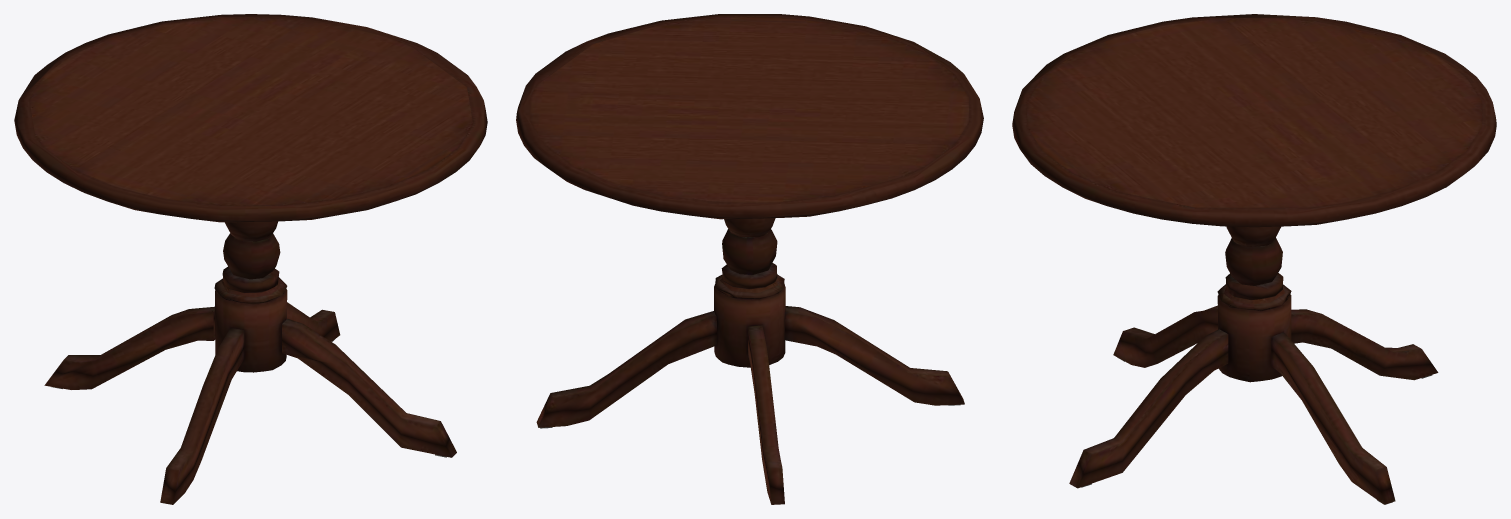
Rendered from round_wooden_table_01.glb.
3 renders of one model, left to right at view 1: azimuth 30°, elevation 25°; view 2: azimuth 150°, elevation 25°; view 3: azimuth 270°, elevation 25°, orthographic. The views are drawn at different scales.
Parts seen in each view (by area): view 1: round_wooden_table_01; view 2: round_wooden_table_01; view 3: round_wooden_table_01.
Part boxes in pixels (box(x1,y1,x2,y2)): round_wooden_table_01: box(14, 14, 487, 504); round_wooden_table_01: box(516, 14, 983, 504); round_wooden_table_01: box(1012, 14, 1496, 504).
Bounding box in the file's own units: 1.4 × 1 × 1.4.
Materials: 1 (1 with a texture image).
